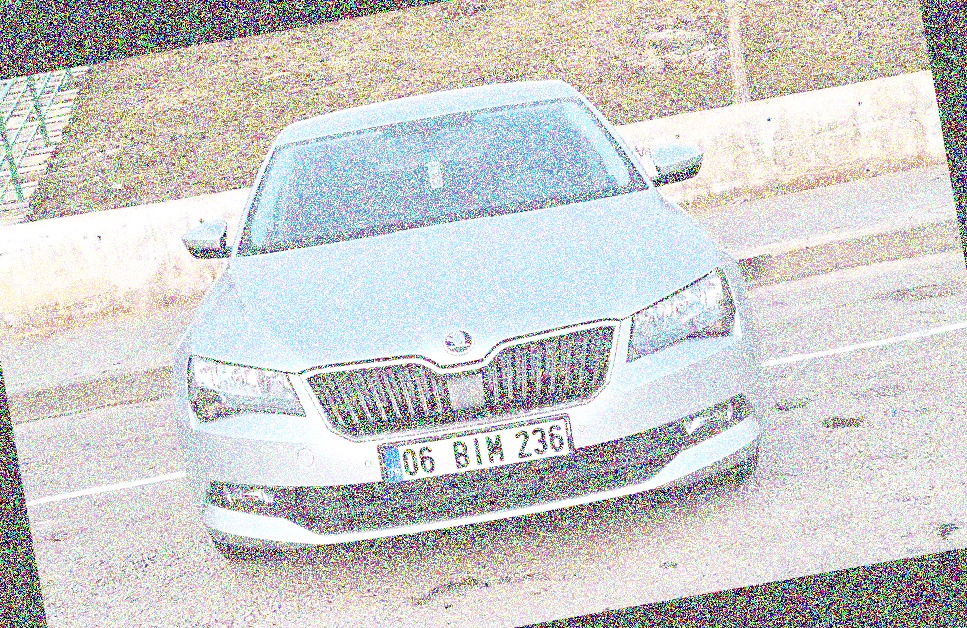plaka: (392, 425, 576, 475)
